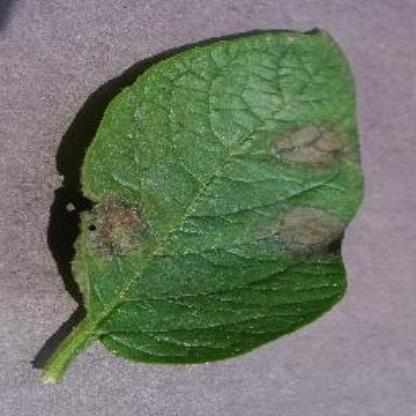Late-Blight: (22, 16, 388, 402)
